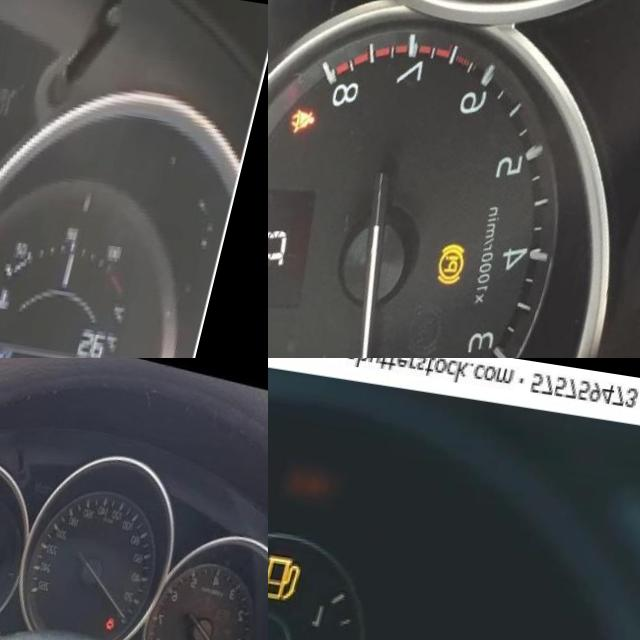Seat Belt: (300, 102, 331, 129)
